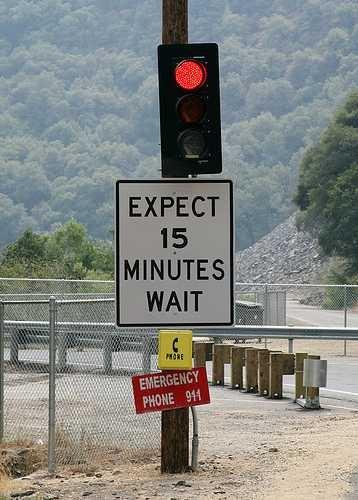red: (159, 39, 227, 174), (162, 46, 211, 89)
